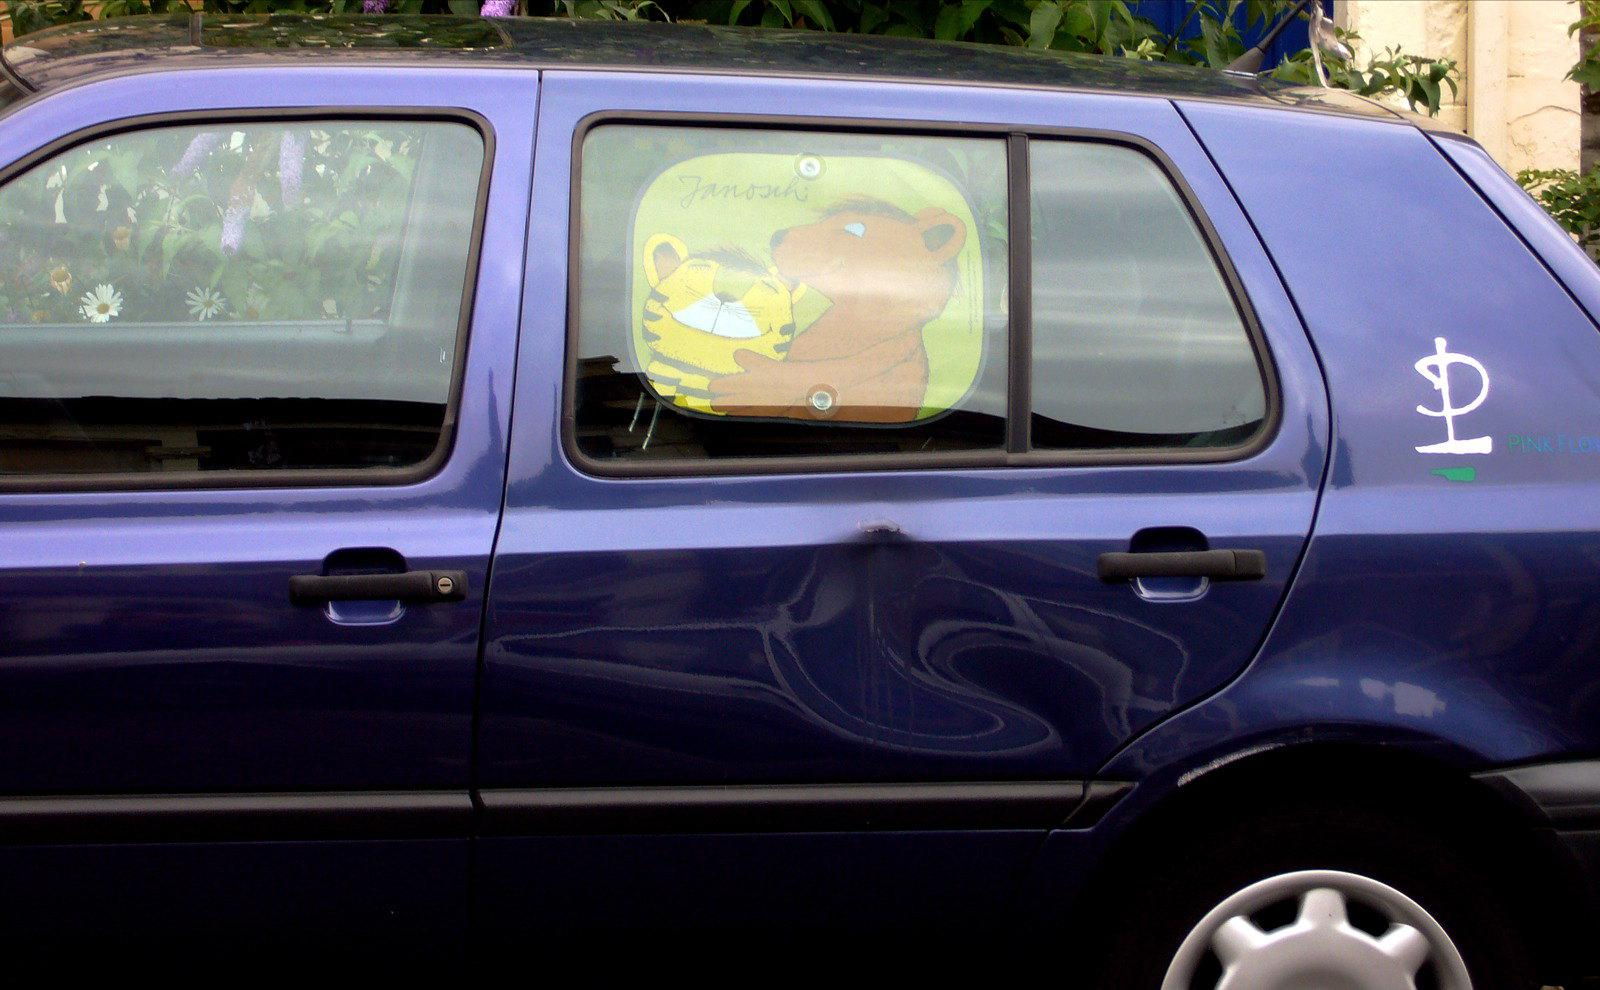doorouter-dent: (526, 550, 1240, 862)
